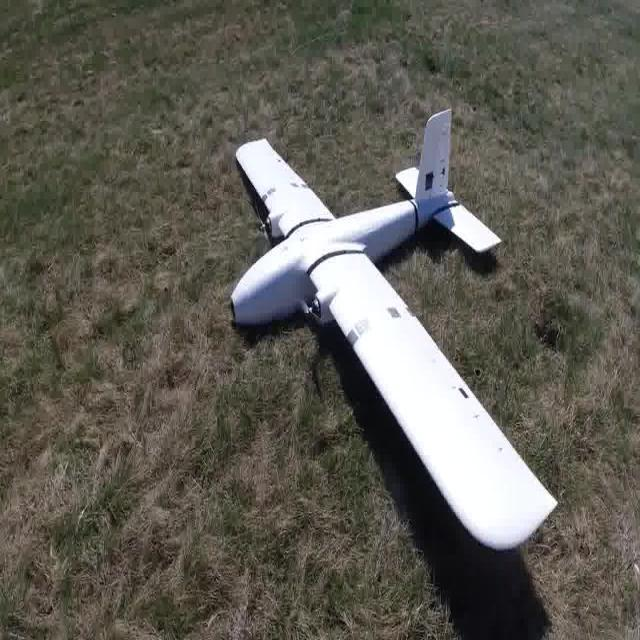iha: (219, 98, 552, 568)
